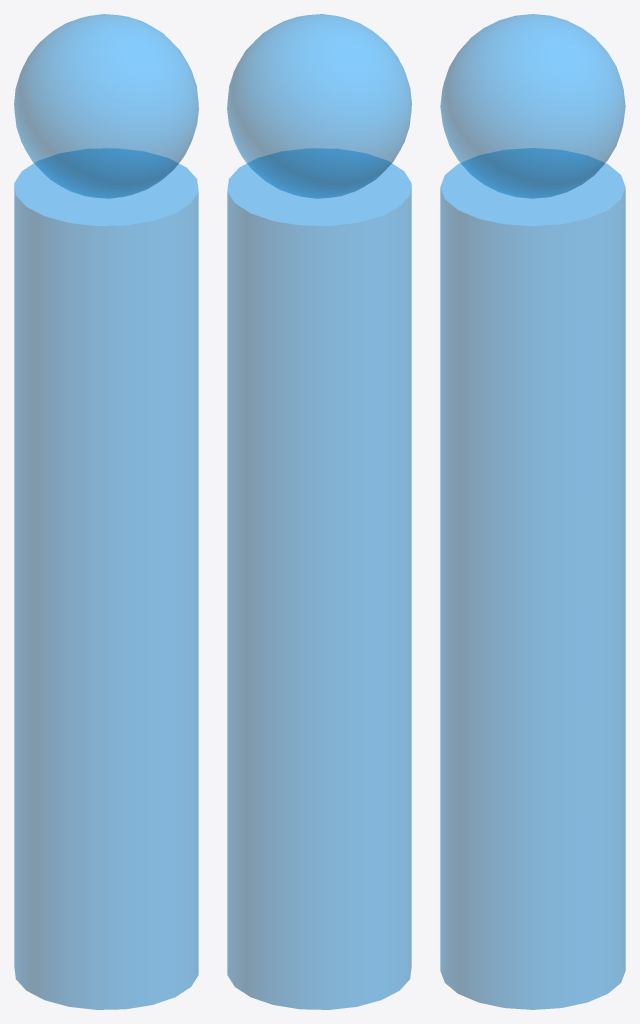
The model's file is UnrealCharacter.gltf.
The picture shows the model from 3 angles, left to right: view 1: azimuth 30°, elevation 25°; view 2: azimuth 150°, elevation 25°; view 3: azimuth 270°, elevation 25°; orthographic projection.
Parts seen in each view (by area): view 1: UnrealCharacter, Sphere; view 2: UnrealCharacter, Sphere; view 3: UnrealCharacter, Sphere.
Boxes of the visible parts, bbox=[...] form: UnrealCharacter: bbox=[14, 148, 198, 1009]; Sphere: bbox=[14, 14, 198, 198]; UnrealCharacter: bbox=[227, 148, 411, 1009]; Sphere: bbox=[227, 14, 411, 198]; UnrealCharacter: bbox=[440, 148, 625, 1009]; Sphere: bbox=[440, 14, 625, 198].
Size of the model in its own units: 0.3 by 1.69 by 0.3.
